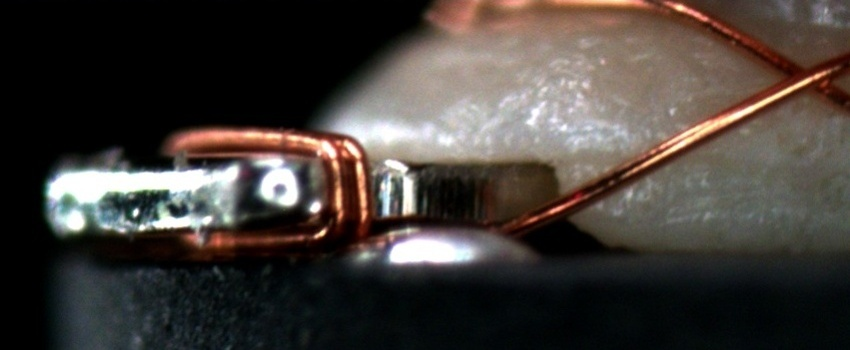CL: (758, 47, 845, 105)
DL: (574, 140, 716, 178)
TE: (163, 123, 373, 254)
